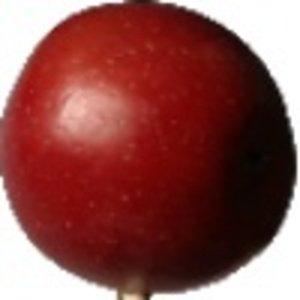maçã braeburn: (1, 1, 296, 290)
